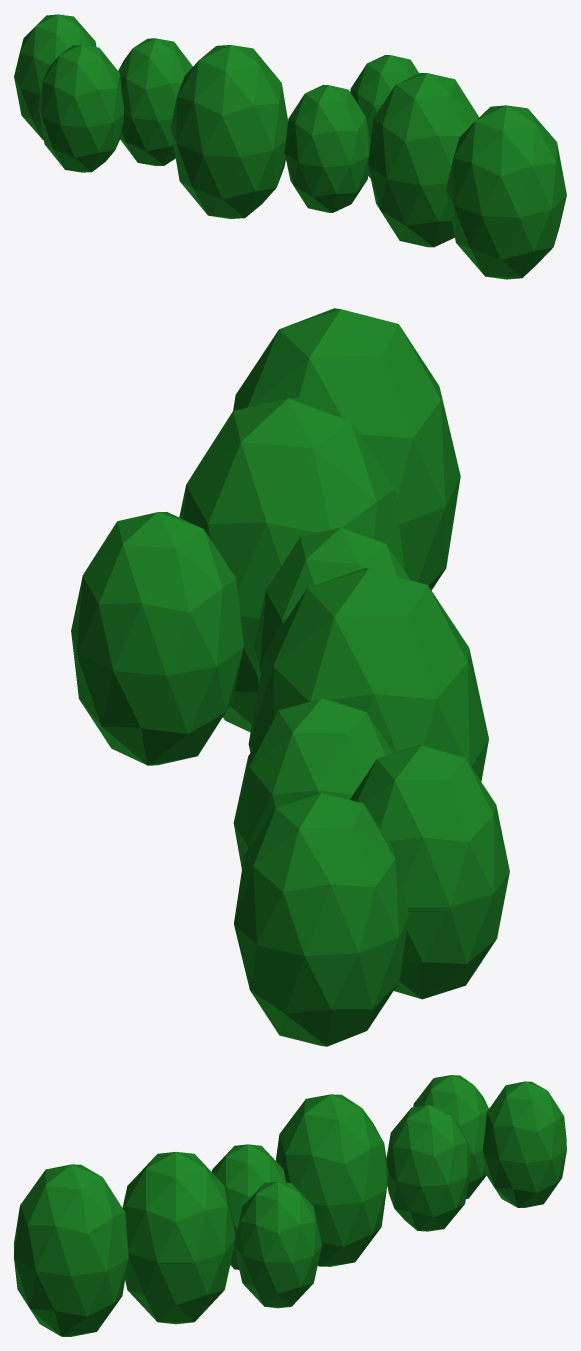
The model's file is blockout1.treecluster1.fbx.
3 views of the same model, one above another, from view 1: azimuth 30°, elevation 25°; view 2: azimuth 150°, elevation 25°; view 3: azimuth 270°, elevation 25° (orthographic). The views are drawn at different scales.
Visible parts, largest first — view 1: Icosphere.023; view 2: Icosphere.023; view 3: Icosphere.023.
Boxes of the visible parts, x1,y1,x2,y2 form: Icosphere.023: (14, 14, 566, 279); Icosphere.023: (71, 308, 509, 1046); Icosphere.023: (14, 1075, 566, 1336).
Bounding box in the file's own units: 1029 × 529 × 1537.
